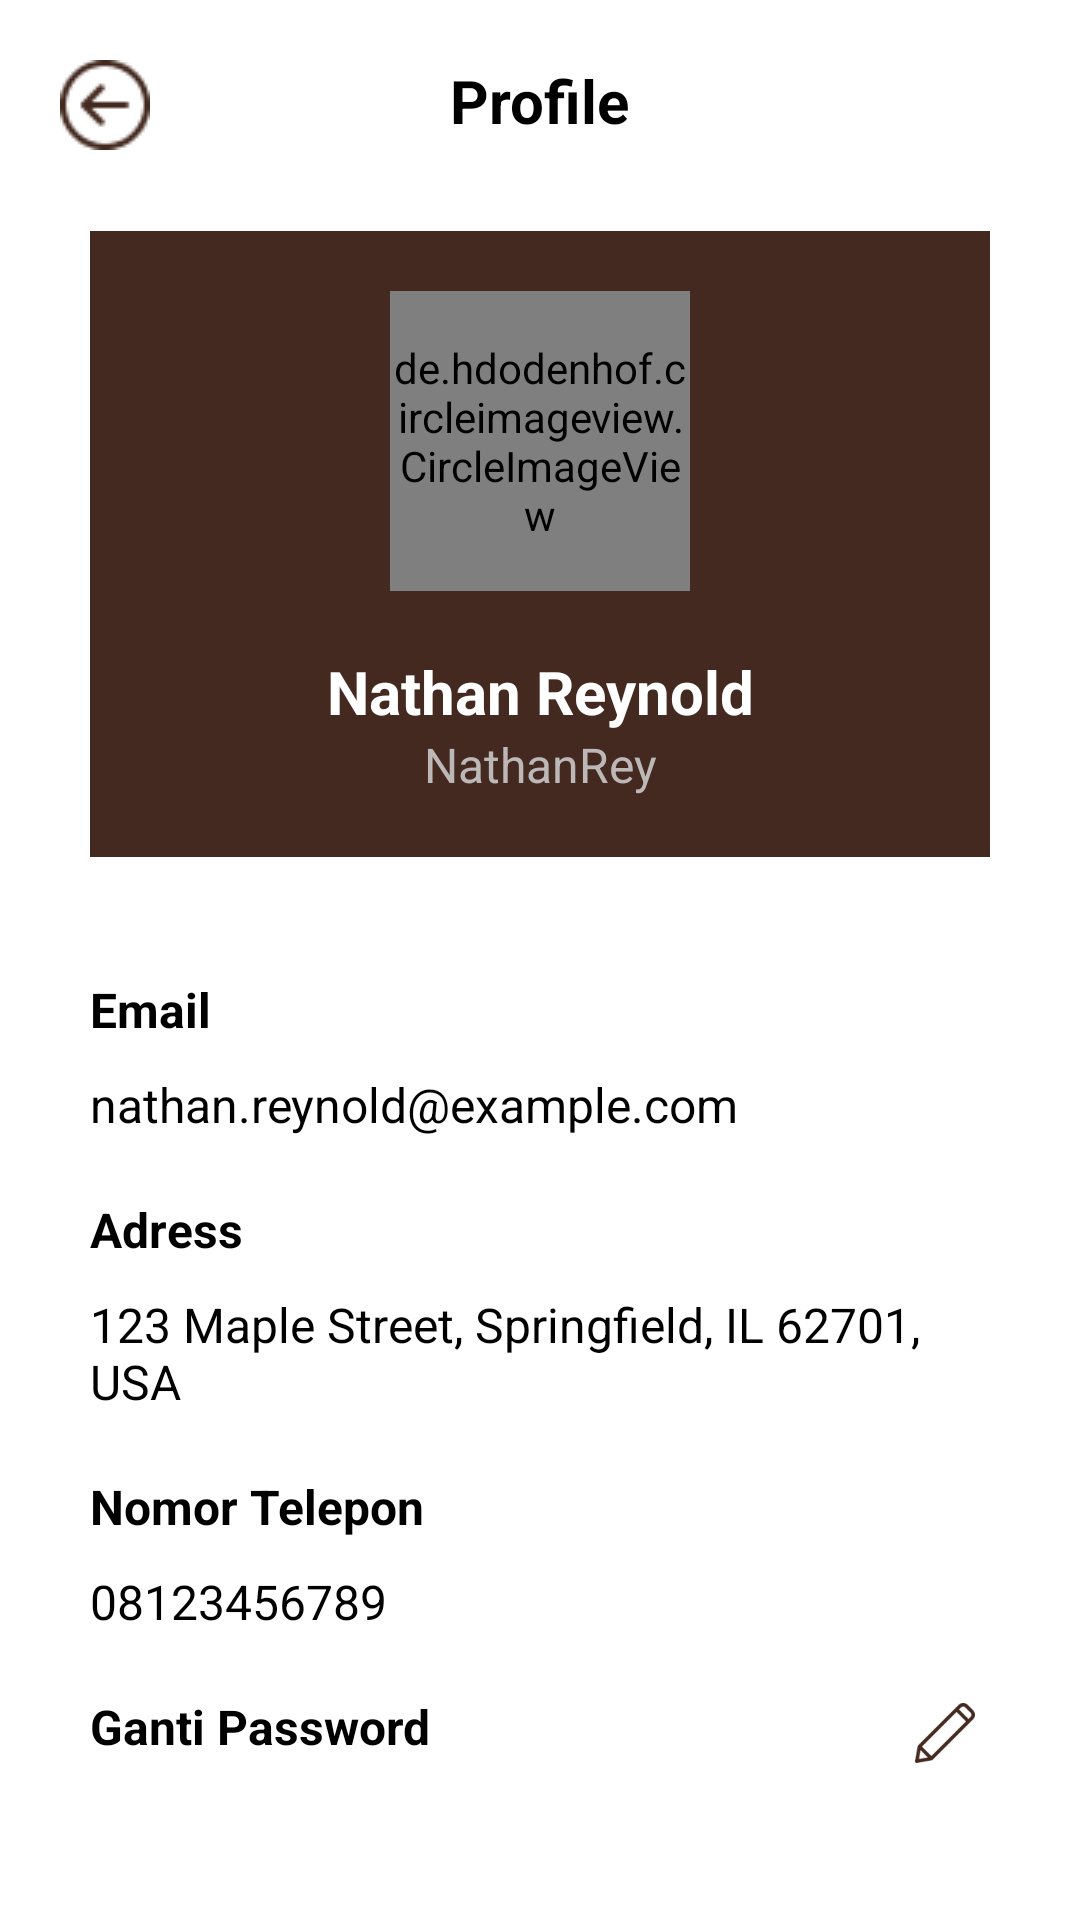

Icon click points for this 1080 x 1920 phone screenshot, format [x,y]:
circle back: [105,105]
edit: [945,1733]
